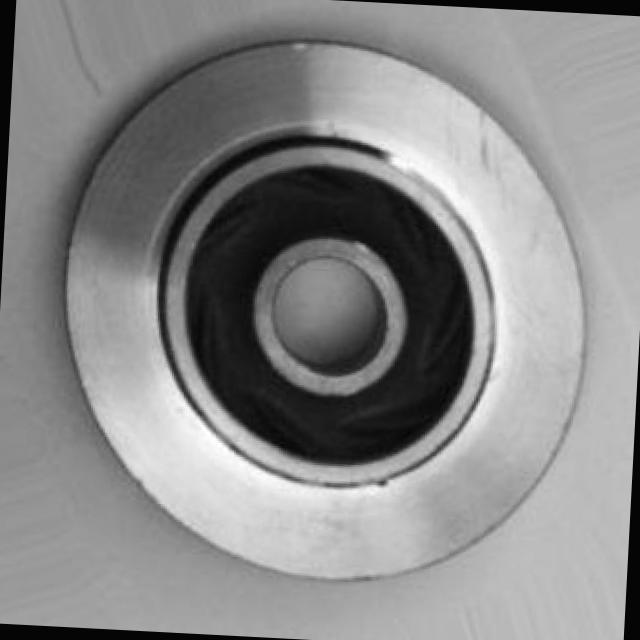Defect: (368, 473, 398, 494)
